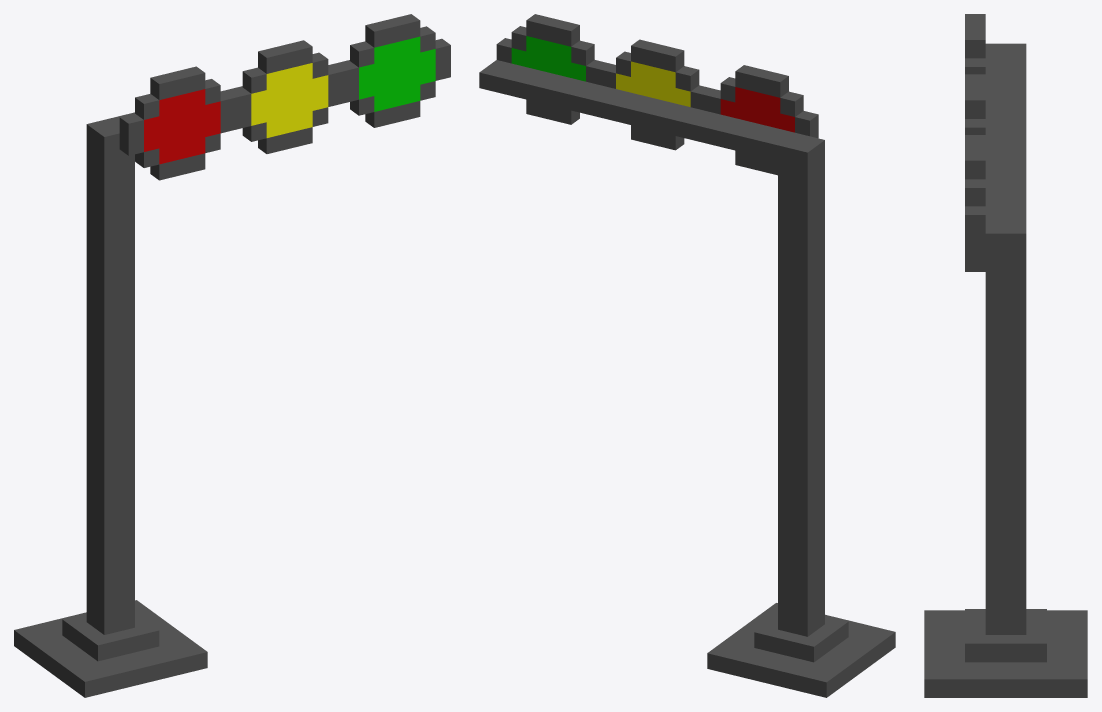
The model's file is semaforo2.obj.
3 renders of one model, left to right at view 1: azimuth 30°, elevation 25°; view 2: azimuth 150°, elevation 25°; view 3: azimuth 270°, elevation 25°, orthographic. The views are drawn at different scales.
Bounding box in the file's own units: 2.5 × 3.6 × 0.8.
Materials: 1 (1 with a texture image).
